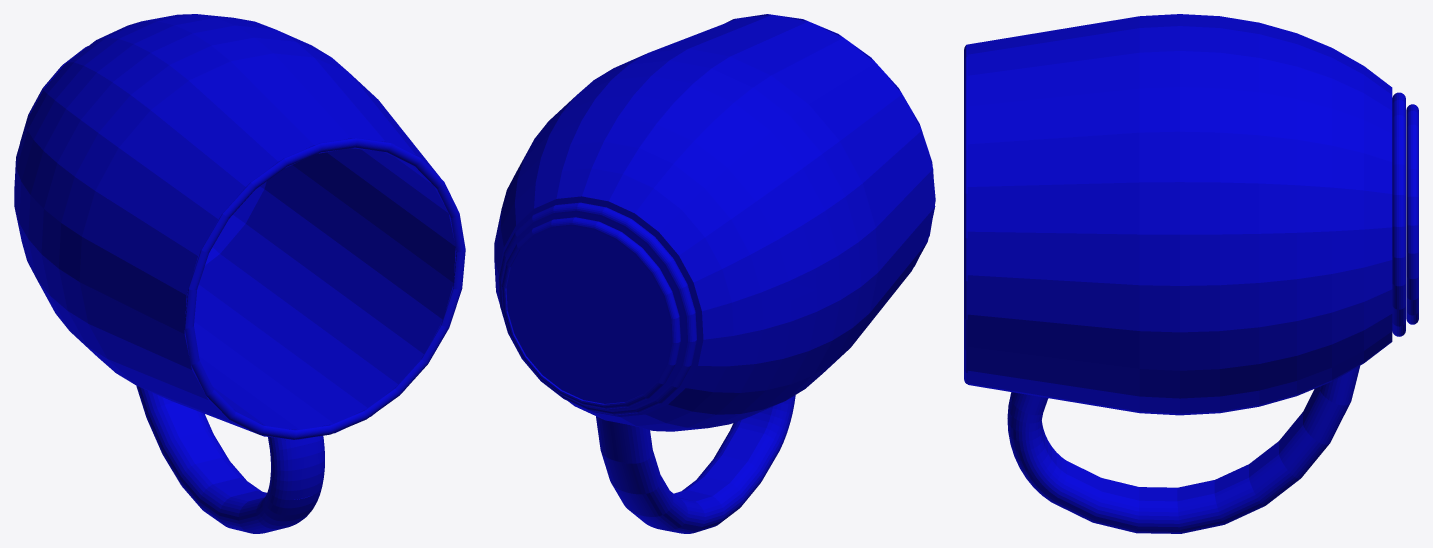
3 renders of one model, left to right at view 1: azimuth 30°, elevation 25°; view 2: azimuth 150°, elevation 25°; view 3: azimuth 270°, elevation 25°, orthographic. The views are drawn at different scales.
Size of the model in its own units: 0.0841 by 0.1145 by 0.0951.
